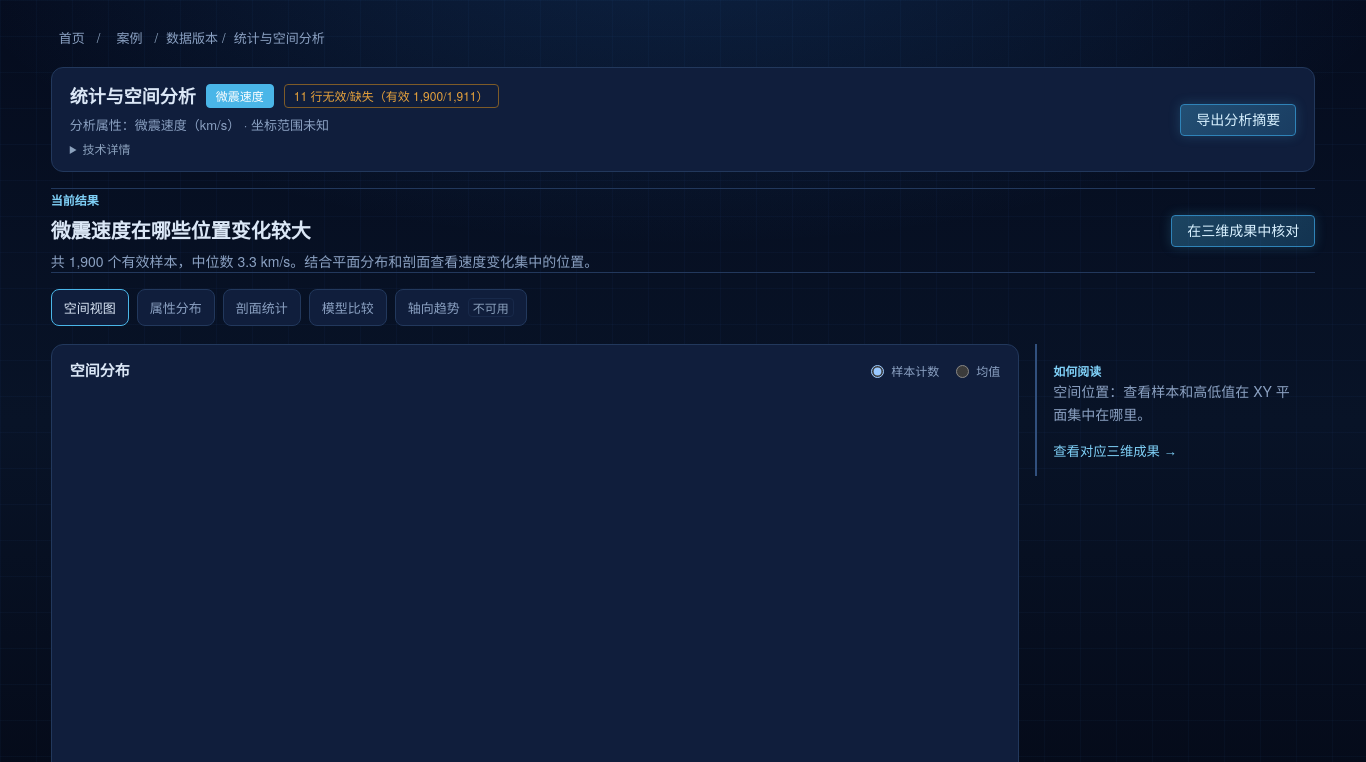
Scenario: AnalysisCenterView（A+B 壳） › 顶栏导出入口联动底部导出面板：点击后导出折叠项展开
Click the button with test id "analysis-export-command" at (1238, 120), box [1180, 104, 1296, 136]
(page scrolled)
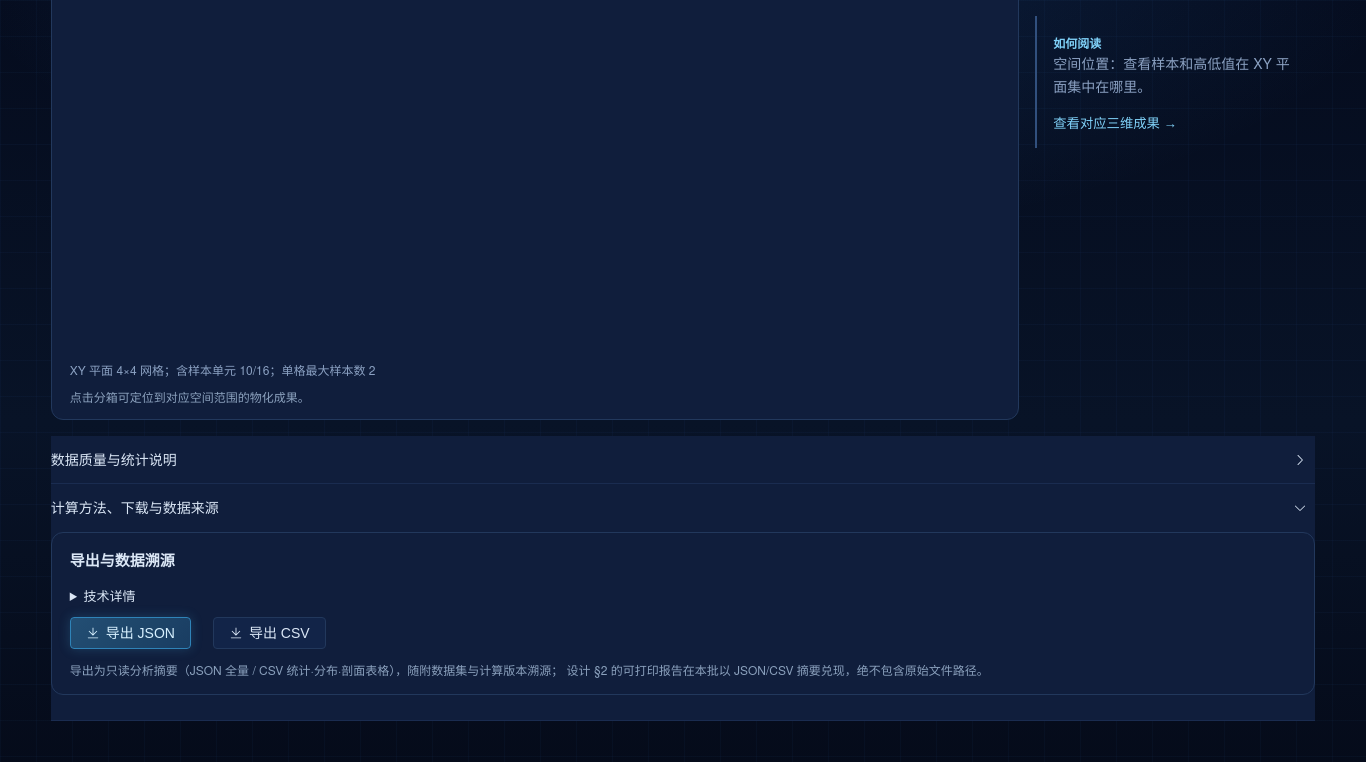
Expected: the button with test id "export-command-json" is shown, [70, 617, 191, 649]
Expected: the button with test id "export-command-csv" is shown, [213, 617, 326, 649]
